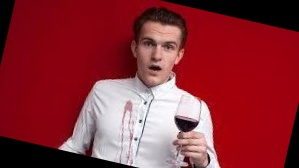wine: (121, 124, 137, 165), (115, 125, 129, 164), (119, 98, 136, 130), (124, 143, 142, 166)
